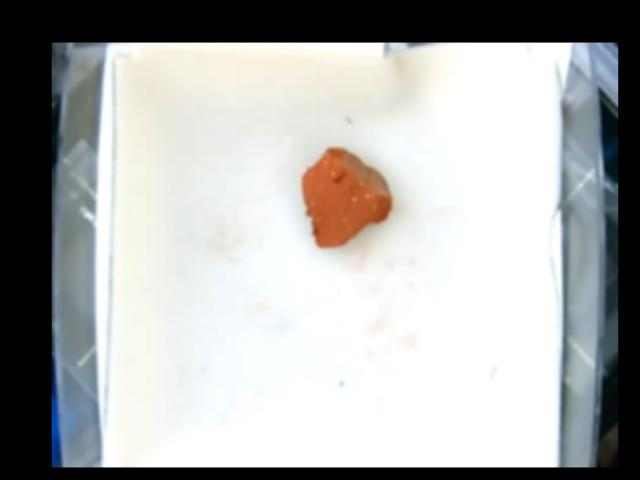Brisk: (302, 145, 392, 247)
